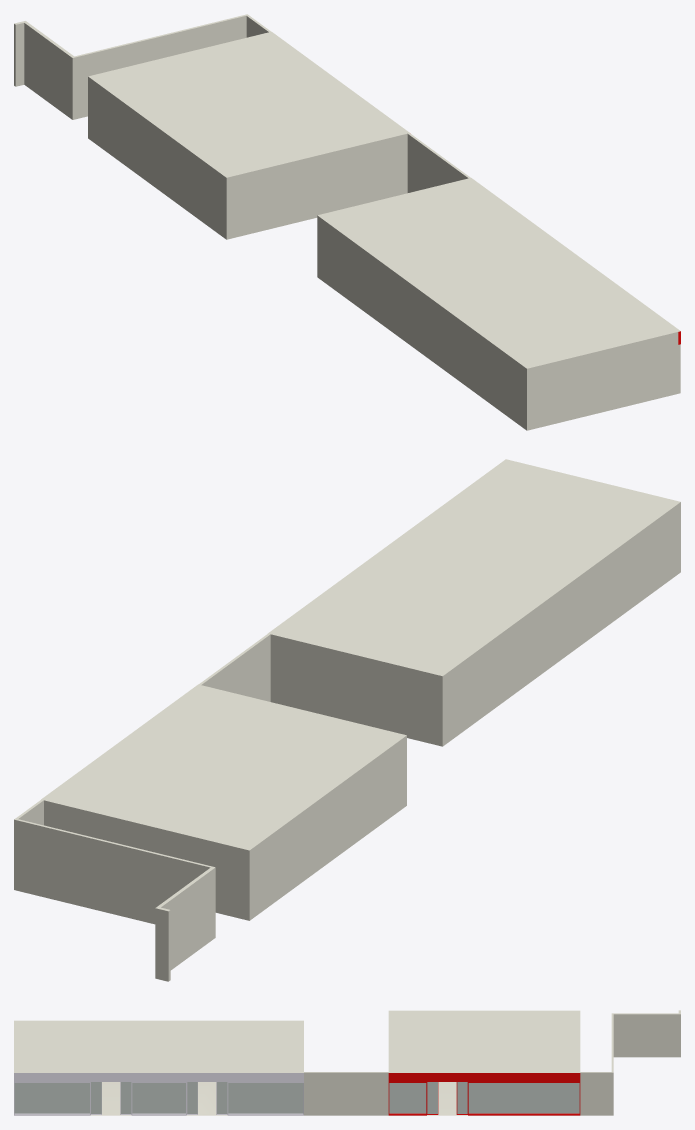
The model's file is shop 7.FBX.
3 renders of one model, top to bottom at view 1: azimuth 30°, elevation 25°; view 2: azimuth 150°, elevation 25°; view 3: azimuth 270°, elevation 25°, orthographic. The views are drawn at different scales.
Visible parts, largest first — view 1: shop 7; view 2: shop 7; view 3: shop 7.
Boxes of the visible parts, x1,y1,x2,y2 form: shop 7: (14,14,680,430); shop 7: (14,459,680,981); shop 7: (14,1010,680,1115).
Bounding box in the file's own units: 522 × 167 × 2354.
1 material, 1 textured.
